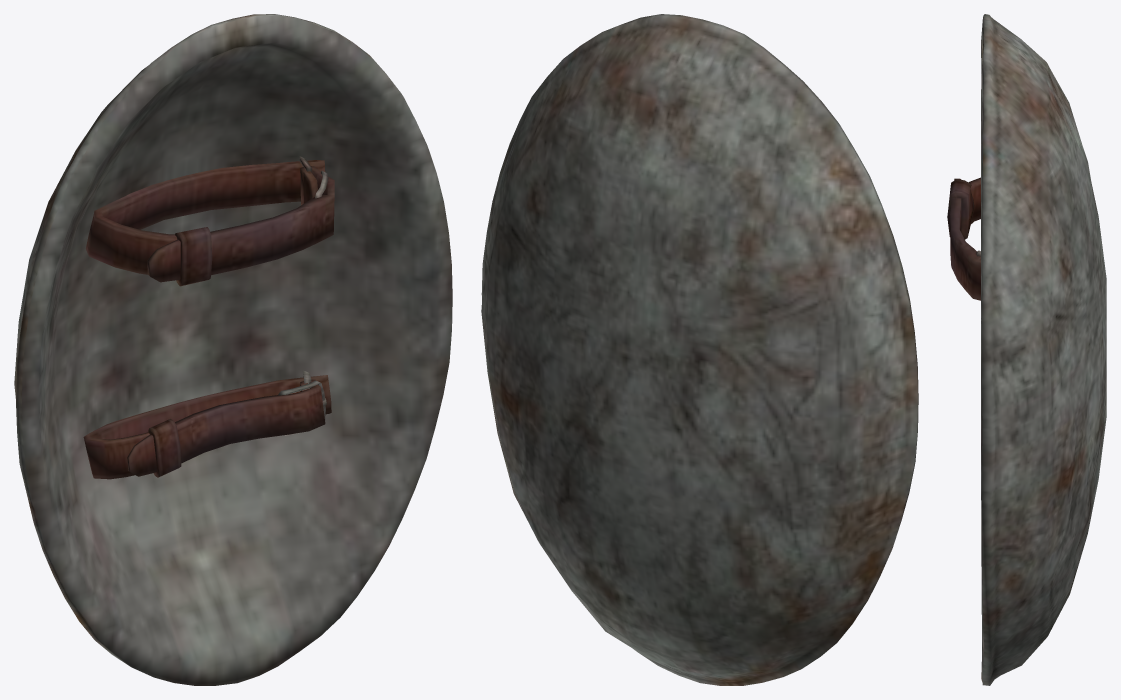
File: weapon-wp_a_2005.glb
The picture shows the model from 3 angles, left to right: view 1: azimuth 30°, elevation 25°; view 2: azimuth 150°, elevation 25°; view 3: azimuth 270°, elevation 25°; orthographic projection. The views are drawn at different scales.
Visible parts, largest first — view 1: wp_a_2005_mesh; view 2: wp_a_2005_mesh; view 3: wp_a_2005_mesh.
Part boxes in pixels (x1,y1,x2,y2): wp_a_2005_mesh: [14, 14, 452, 685]; wp_a_2005_mesh: [481, 14, 918, 685]; wp_a_2005_mesh: [947, 14, 1106, 685].
Bounding box in the file's own units: 0.482 × 0.7019 × 0.158.
1 material, 1 textured.
